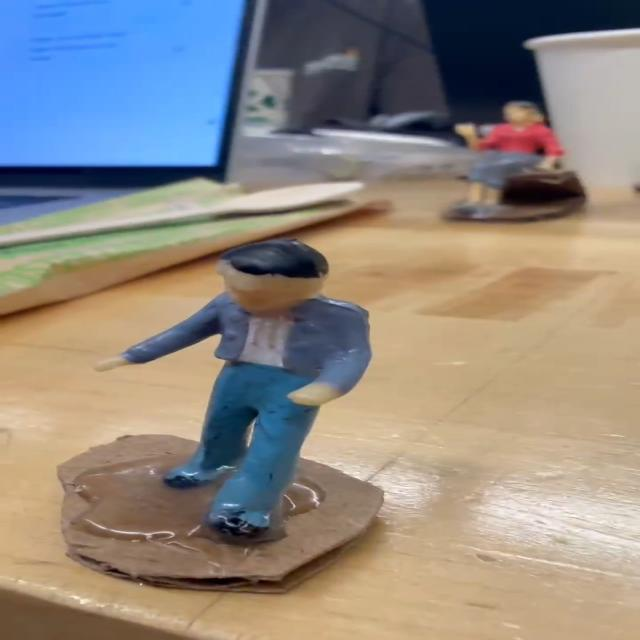Authorized: (98, 235, 383, 532)
